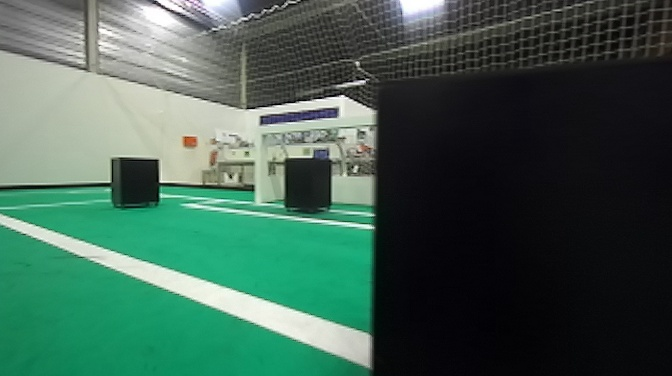goalpost: (251, 128, 266, 206)
